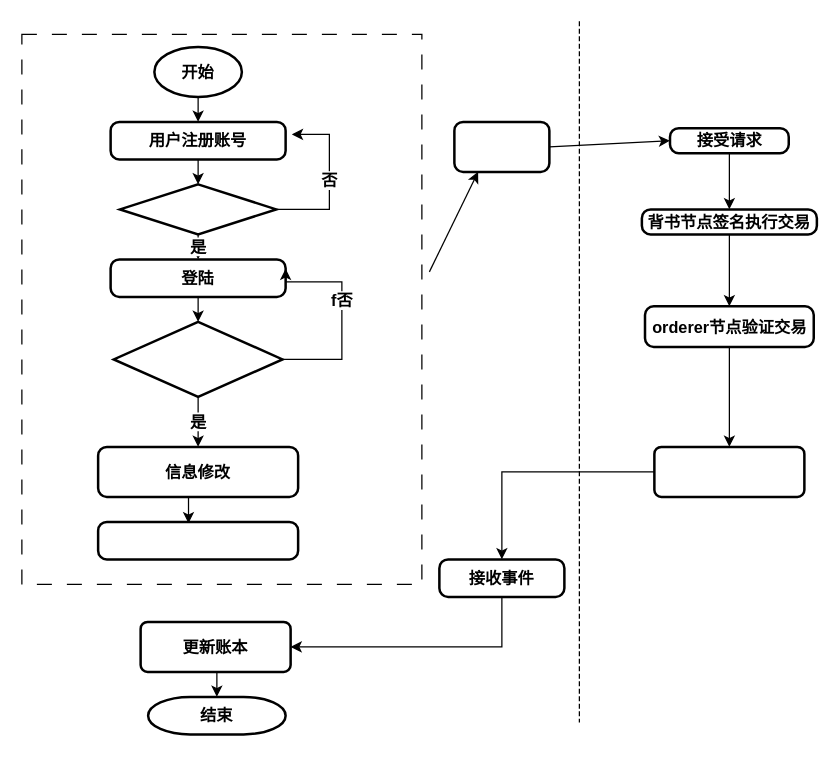
Image size: 840x758. Some labels were removed from this diagram. The shapes that lost their labels are listed below. From the top down, each one's centre as x and y in pixels, then its label:
At (x=501, y=146): "调用gRPC发送请求".
At (x=197, y=208): "注册是否成功".
At (x=197, y=359): "登陆是否成功".
At (x=728, y=471): "发布事件".
At (x=197, y=540): "退出".
